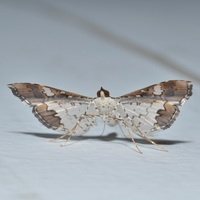insect: (8, 80, 192, 153)
